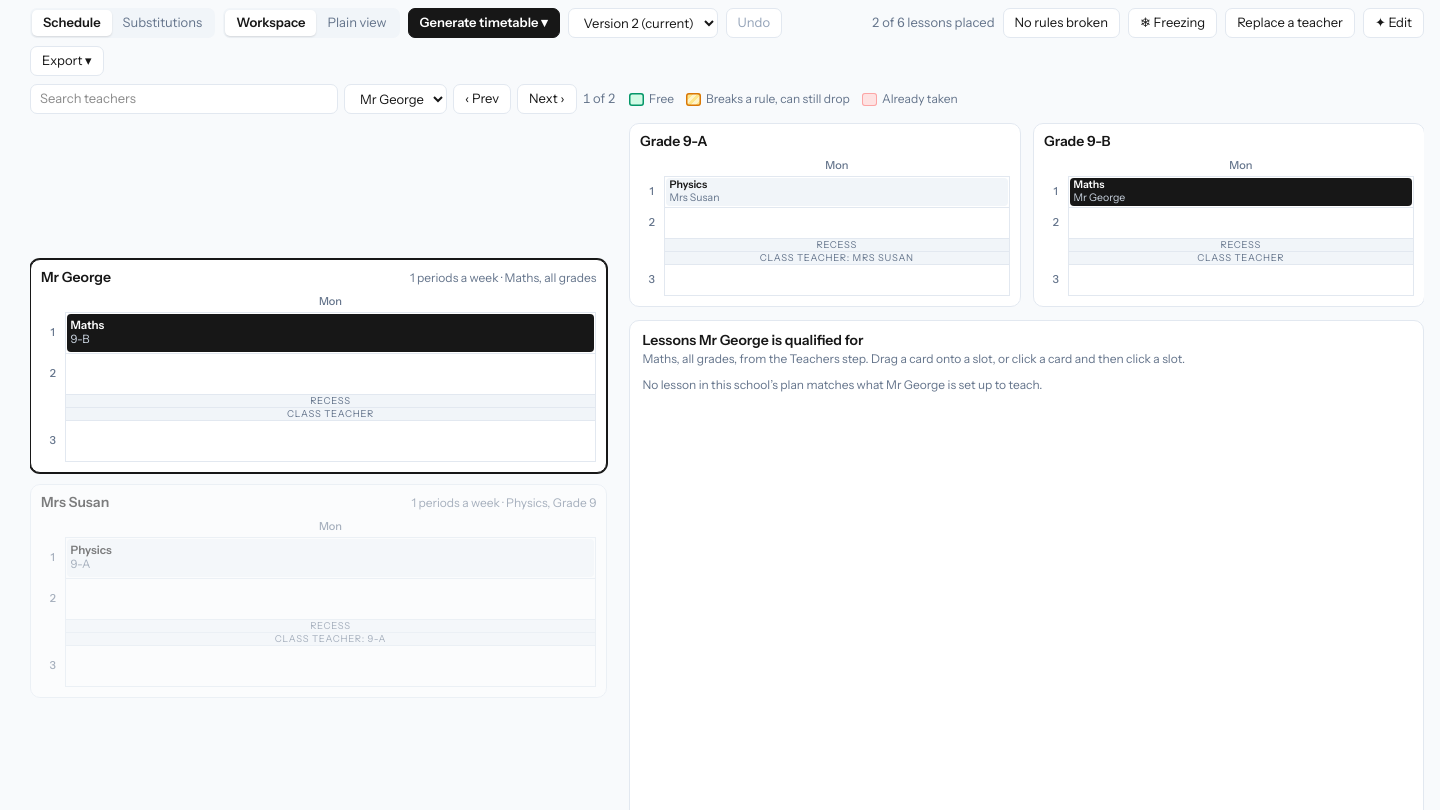
Test: the workspace › finds a teacher by search, dropdown and previous
Type "sus" into the field labelled "Search teachers".
click(184, 99); type("sus")  # box [30, 84, 338, 114]
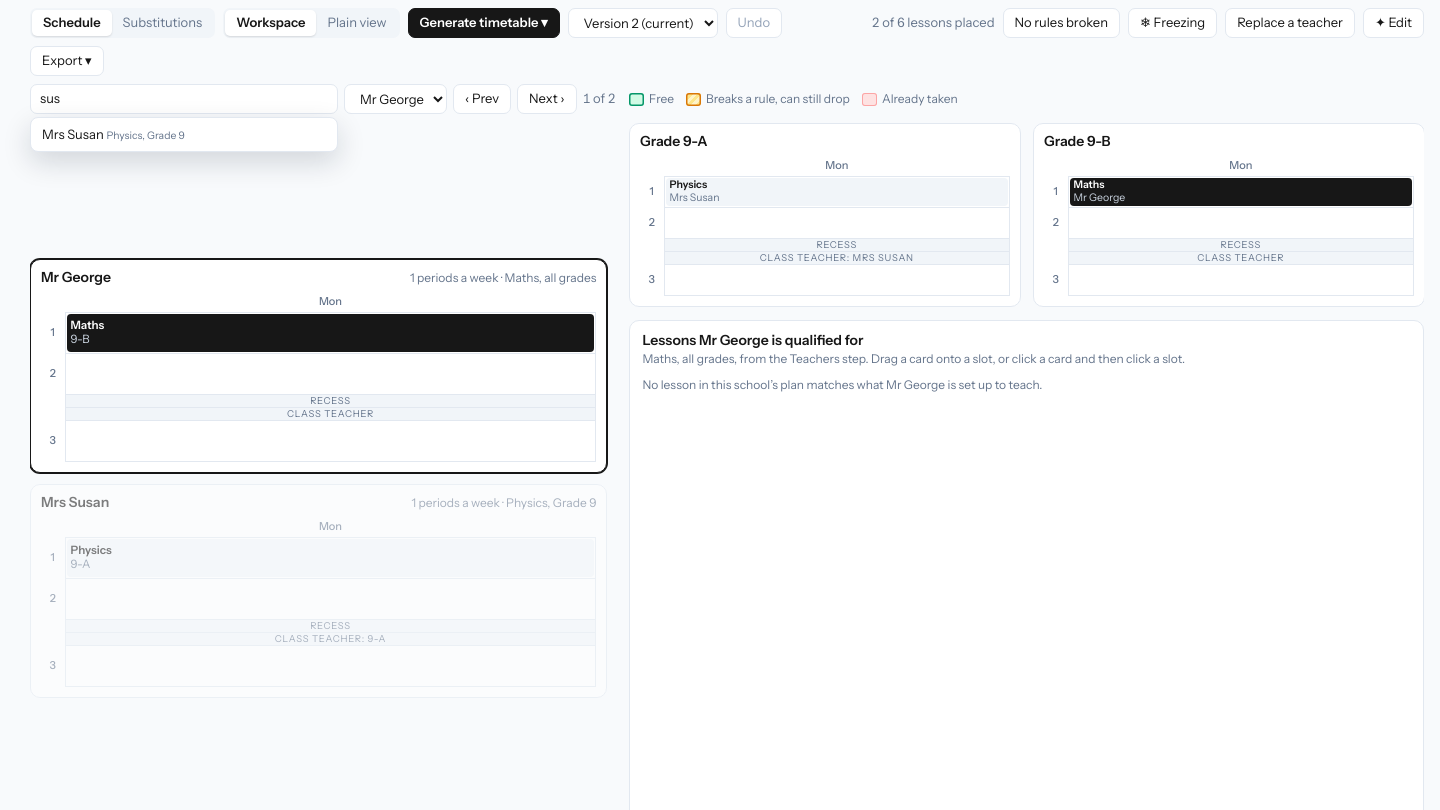
Click the button "Mrs Susan Physics, Grade 9".
click(184, 135)  # box [34, 121, 334, 148]
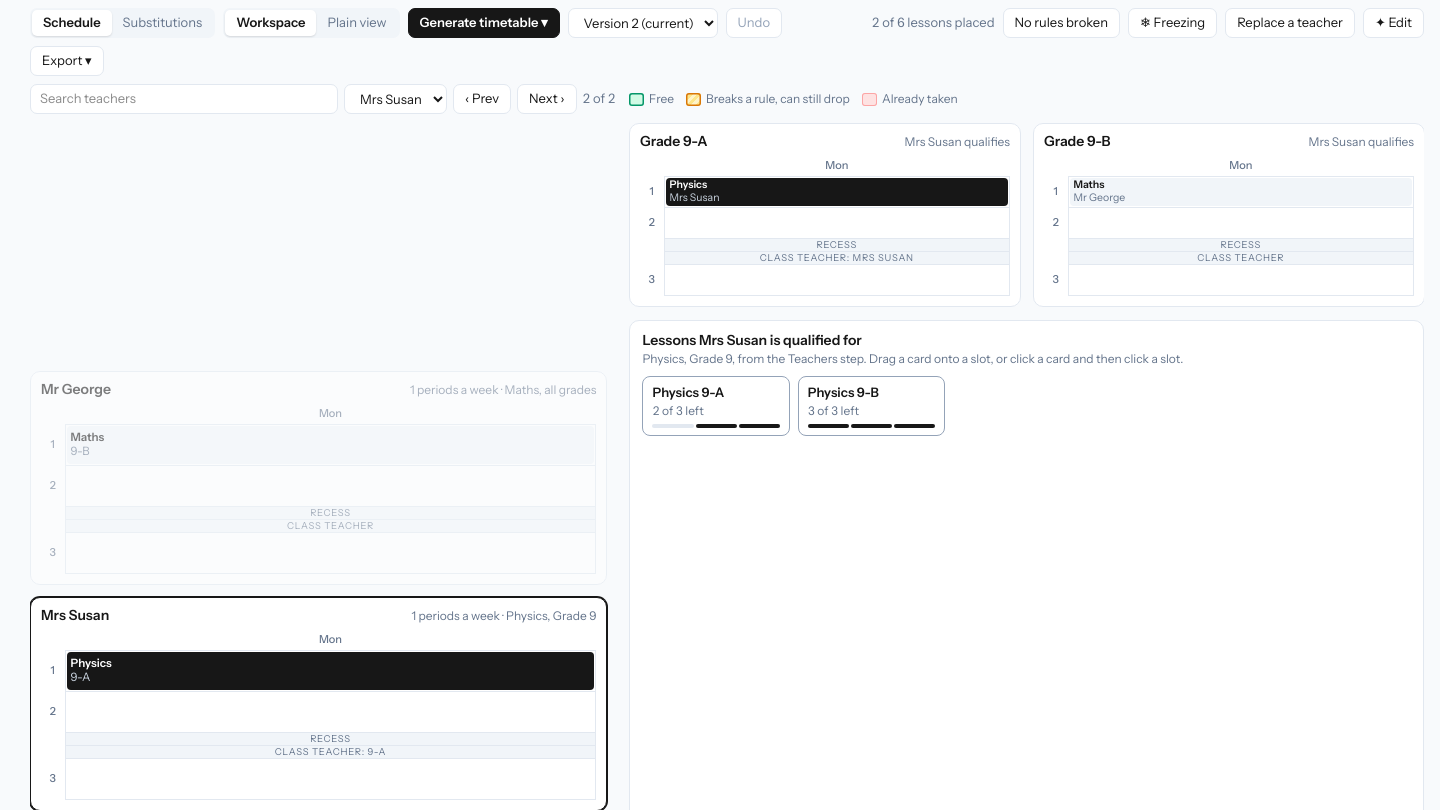
Click the button with aria-label "Previous teacher".
click(482, 99)  # box [453, 84, 511, 114]
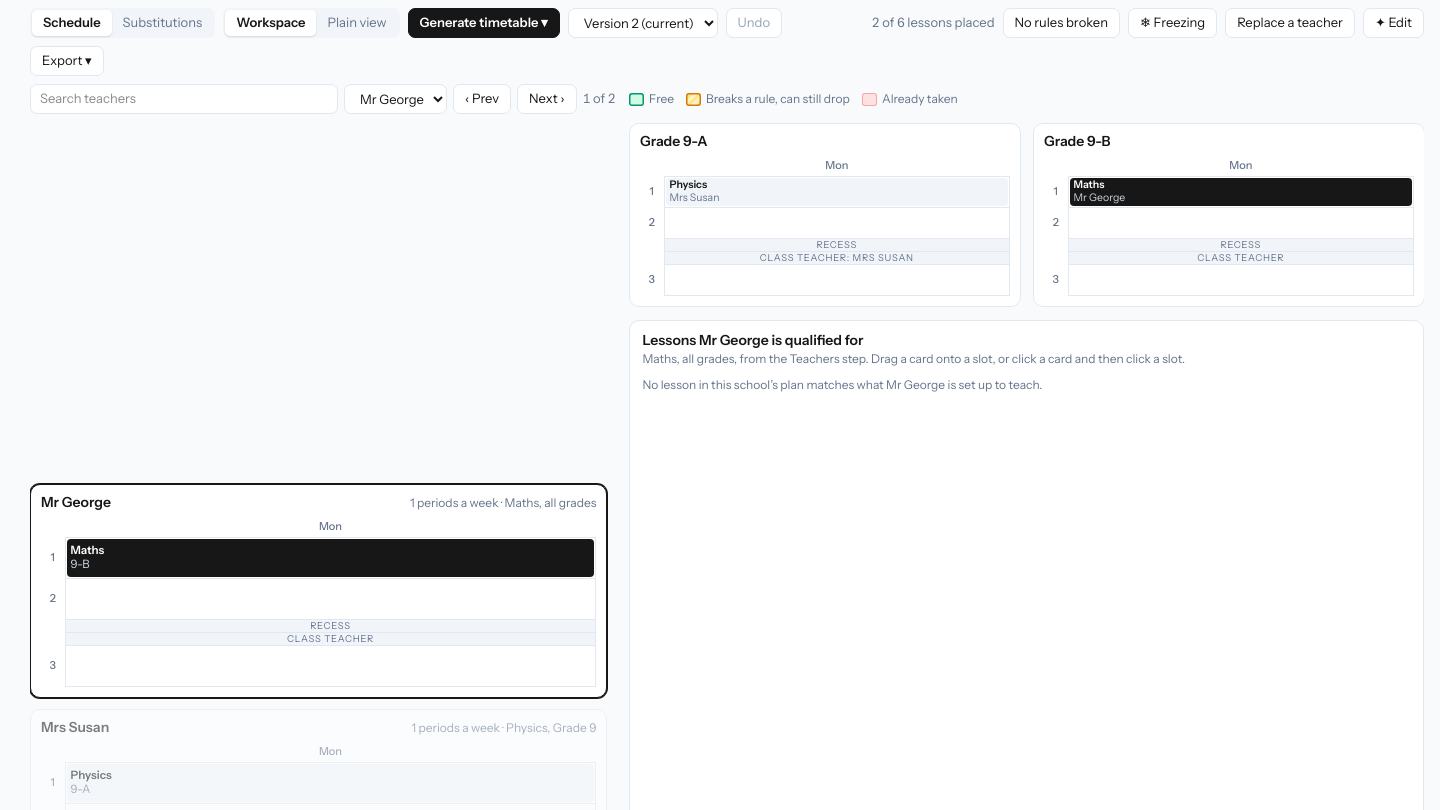
Select "Mrs Susan" in the dropdown named "Choose teacher" at {"x": 396, "y": 99}, box [344, 84, 447, 114]
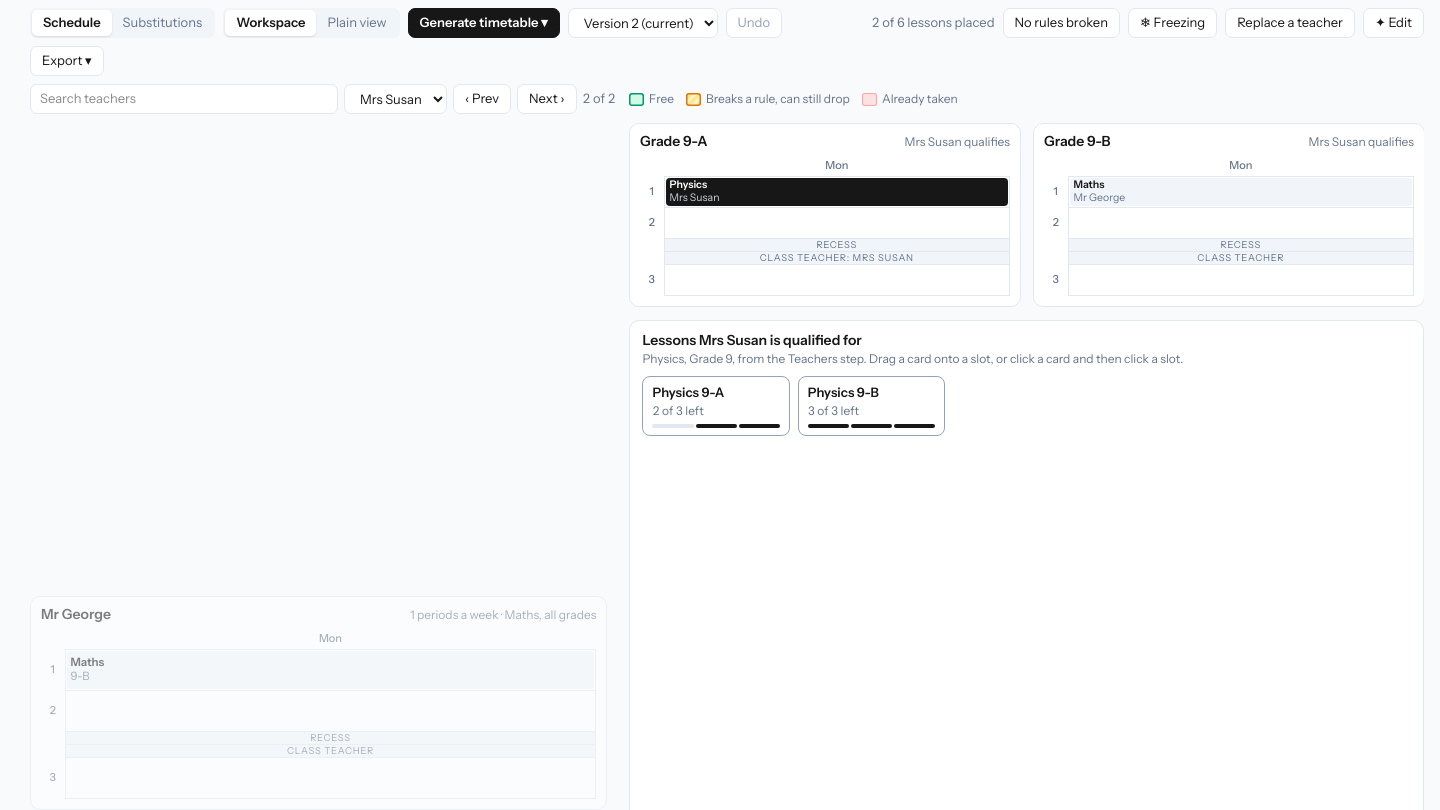
Type "nobody" into the field labelled "Search teachers".
click(184, 99); type("nobody")  # box [30, 84, 338, 114]
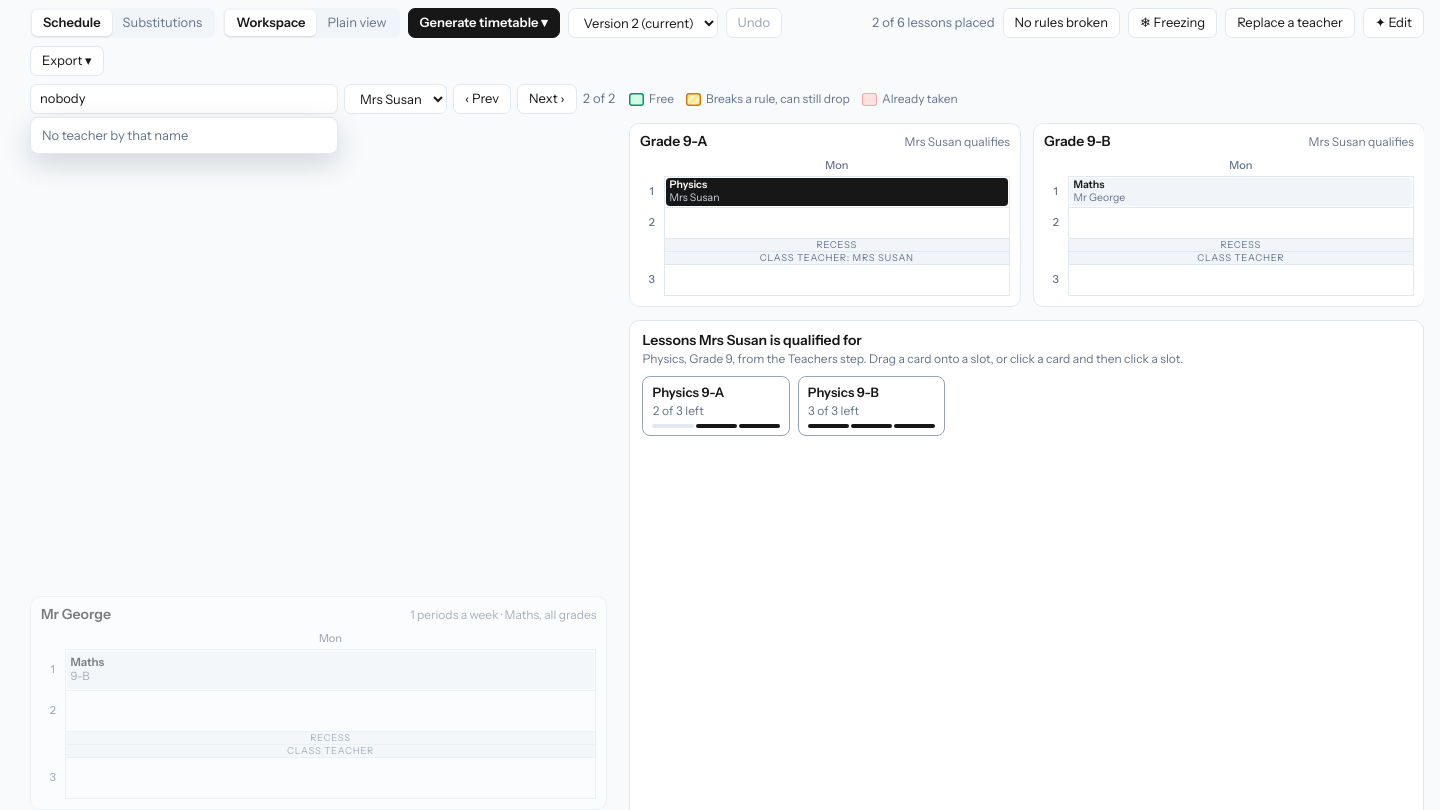
Now the text "No teacher by that name" is shown, box [42, 127, 188, 143]
